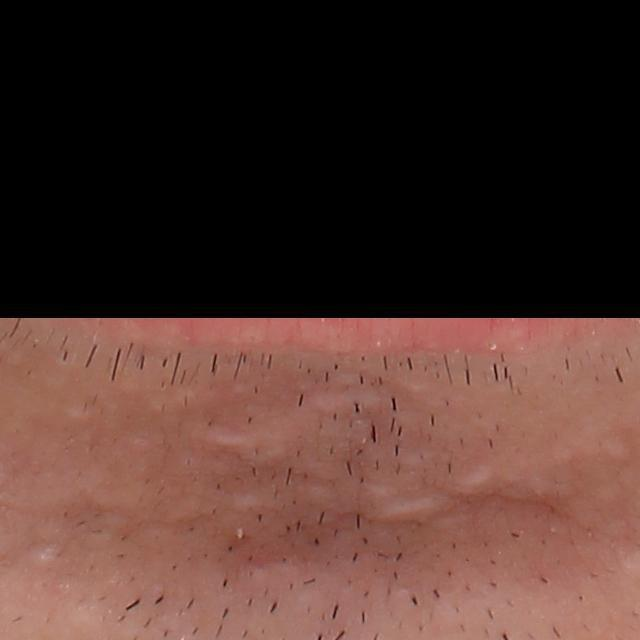hypertrophic_scar: (190, 423, 300, 470), (369, 494, 458, 526), (314, 389, 387, 423), (443, 464, 500, 502), (227, 491, 276, 516), (600, 434, 636, 462), (300, 481, 339, 505)
